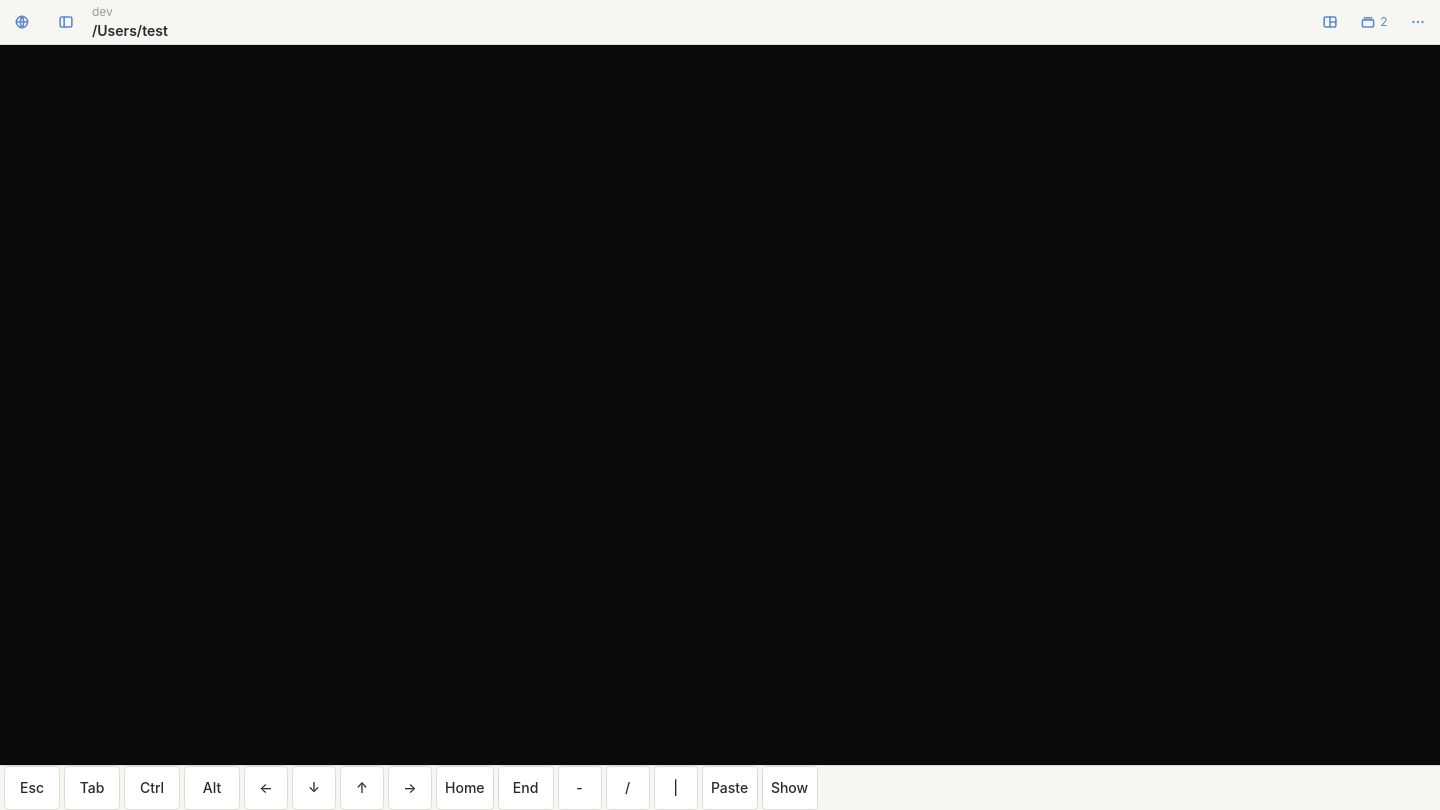
Test: one pane at a time › switches panes by FOCUSING from the pane sheet, and never touches zoom
Click the button with test id "phone-open-panes" at (1374, 22), box left=1352, top=0, right=1396, bottom=44
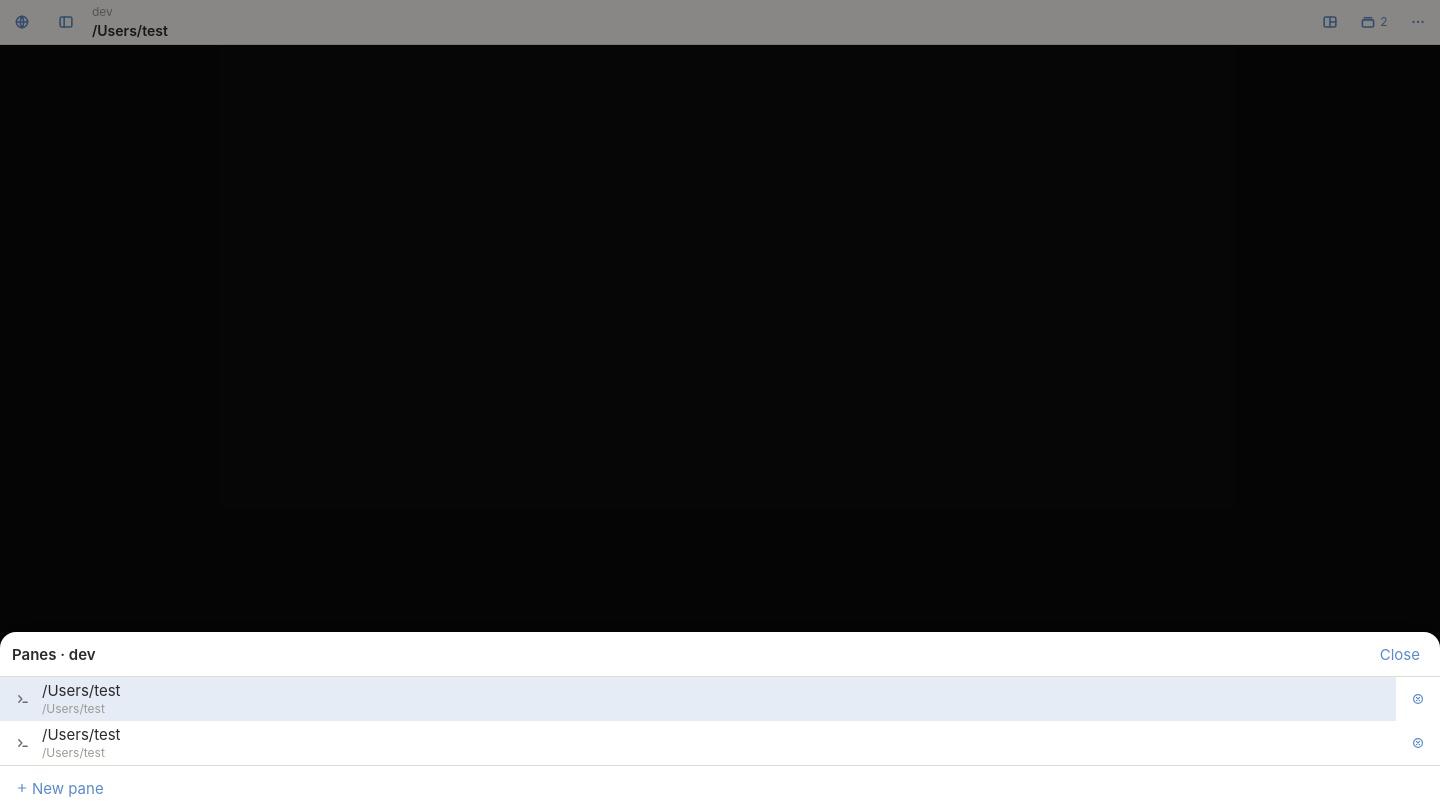
Click the 2nd button "/Users/test /Users/test" at (81, 735), box left=0, top=721, right=1396, bottom=765
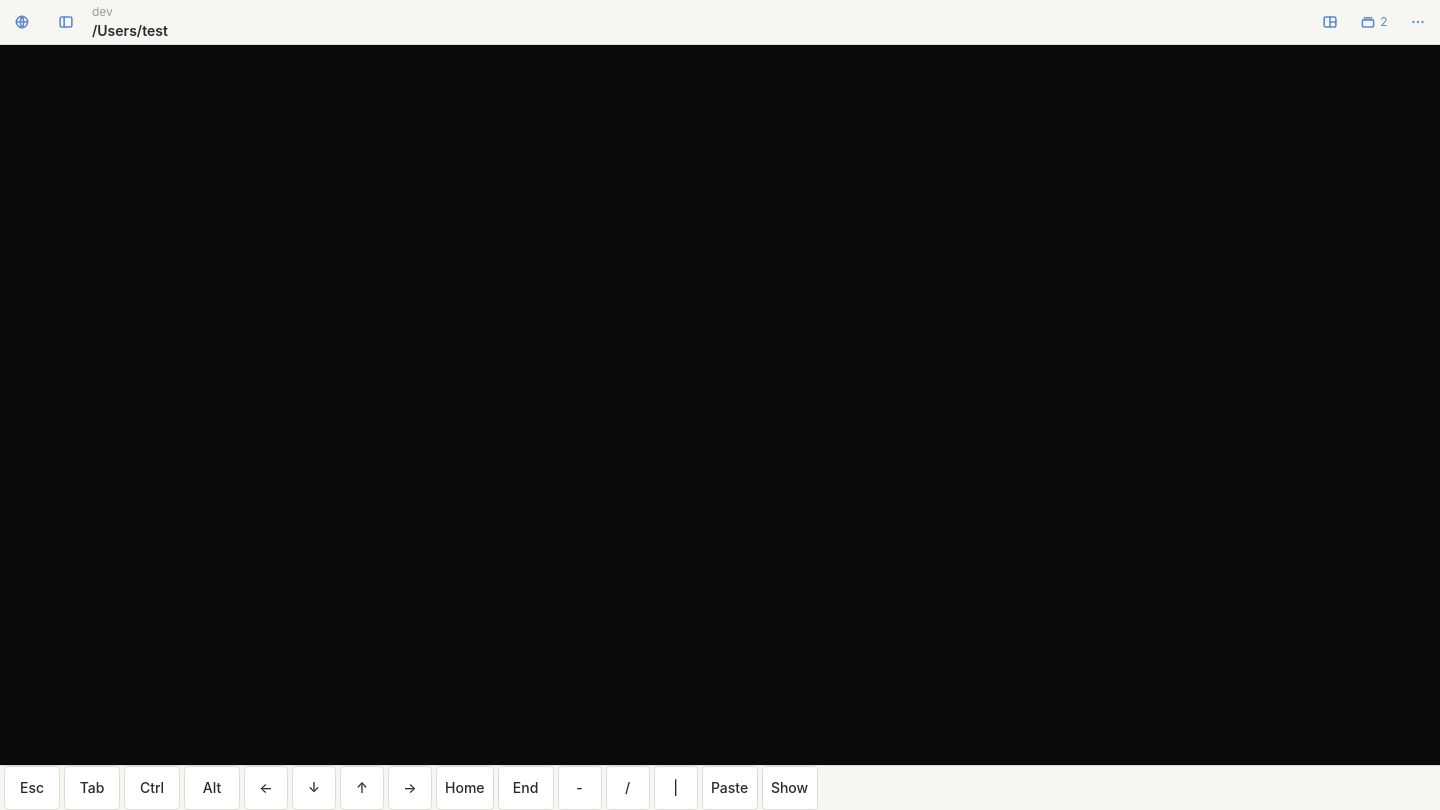
Check: the element with test id "phone-pane-sheet" is gone
